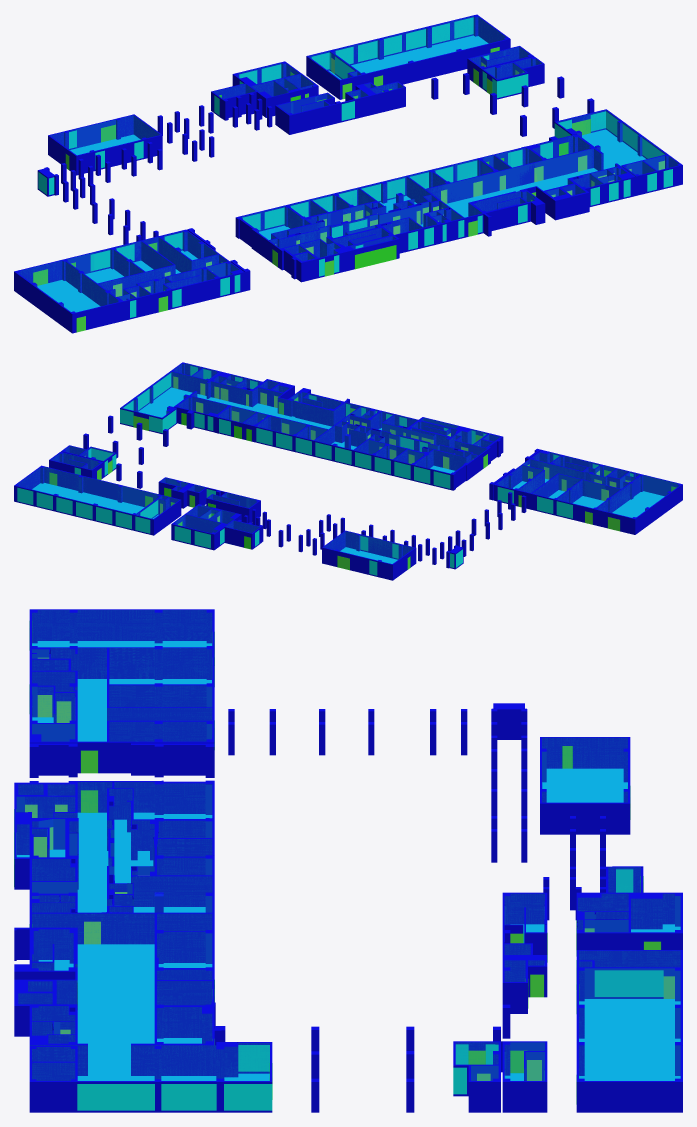
Rendered from floor_1.gltf.
The picture shows the model from 3 angles, top to bottom: view 1: azimuth 30°, elevation 25°; view 2: azimuth 150°, elevation 25°; view 3: azimuth 270°, elevation 25°; orthographic projection. The views are drawn at different scales.
Visible parts, largest first — view 1: group_solid_mesh, group_windows_mesh, Room_1_55220_-9018, group_ground_mesh, Room_1_58452_-52799, group_door_mesh, group_safeexit, Room_1_-24357_-7931, Room_1_25623_-10386, Room_1_5249_-48847, Room_1_22004_-4911, Room_1_-9955_-6874 (+13 smaller); view 2: group_solid_mesh, group_windows_mesh, Room_1_55220_-9018, group_ground_mesh, group_door_mesh, Room_1_58452_-52799, Room_1_-24357_-7931, group_safeexit, Room_1_25623_-10386, Room_1_5249_-48847, Room_1_22004_-4911, Room_1_-9955_-6874 (+12 smaller); view 3: group_solid_mesh, group_ground_mesh, Room_1_55220_-9018, Room_1_58452_-52799, group_windows_mesh, Room_1_-24357_-7931, Room_1_25623_-10386, Room_1_5249_-48847, group_door_mesh, Room_1_22004_-4911, Room_1_-9955_-6874, Room_1_-16499_-11331 (+24 smaller).
Part boxes in pixels (left/top/right/bottom): group_solid_mesh: left=14, top=14, right=682, bottom=333; group_windows_mesh: left=38, top=17, right=672, bottom=317; Room_1_55220_-9018: left=427, top=110, right=664, bottom=216; group_ground_mesh: left=37, top=35, right=646, bottom=312; Room_1_58452_-52799: left=333, top=16, right=505, bottom=73; group_door_mesh: left=33, top=47, right=664, bottom=332; group_safeexit: left=33, top=47, right=590, bottom=332; Room_1_-24357_-7931: left=18, top=261, right=117, bottom=311; Room_1_25623_-10386: left=273, top=177, right=430, bottom=238; Room_1_5249_-48847: left=50, top=115, right=159, bottom=154; Room_1_22004_-4911: left=270, top=201, right=448, bottom=247; Room_1_-9955_-6874: left=99, top=237, right=226, bottom=296; group_solid_mesh: left=14, top=362, right=682, bottom=580; group_windows_mesh: left=17, top=366, right=633, bottom=575; Room_1_55220_-9018: left=123, top=372, right=359, bottom=428; group_ground_mesh: left=32, top=387, right=664, bottom=563; group_door_mesh: left=49, top=376, right=676, bottom=569; Room_1_58452_-52799: left=18, top=467, right=158, bottom=513; Room_1_-24357_-7931: left=598, top=475, right=678, bottom=517; group_safeexit: left=49, top=397, right=675, bottom=570; Room_1_25623_-10386: left=316, top=424, right=470, bottom=456; Room_1_5249_-48847: left=324, top=531, right=413, bottom=563; Room_1_22004_-4911: left=343, top=412, right=486, bottom=454; Room_1_-9955_-6874: left=519, top=459, right=635, bottom=492; group_solid_mesh: left=14, top=609, right=682, bottom=1112; group_ground_mesh: left=17, top=641, right=680, bottom=1080; Room_1_55220_-9018: left=30, top=914, right=269, bottom=1080; Room_1_58452_-52799: left=579, top=968, right=680, bottom=1080; group_windows_mesh: left=77, top=869, right=663, bottom=1110; Room_1_-24357_-7931: left=32, top=610, right=211, bottom=646; Room_1_25623_-10386: left=109, top=789, right=211, bottom=912; Room_1_5249_-48847: left=542, top=738, right=627, bottom=802; group_door_mesh: left=25, top=657, right=674, bottom=1080; Room_1_22004_-4911: left=32, top=782, right=111, bottom=911; Room_1_-9955_-6874: left=51, top=648, right=211, bottom=741; Room_1_-16499_-11331: left=109, top=648, right=211, bottom=683.
Bounding box in the file's own units: 98899 × 3000 × 59129.
